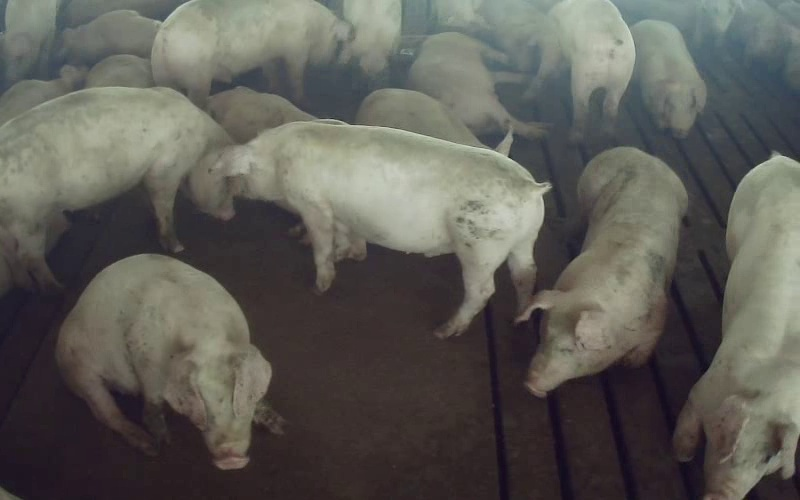pig: (213, 122, 549, 337), (56, 255, 282, 469), (0, 87, 233, 289), (674, 156, 799, 499), (517, 148, 687, 396), (151, 0, 351, 107), (407, 32, 549, 138), (630, 20, 705, 137)
